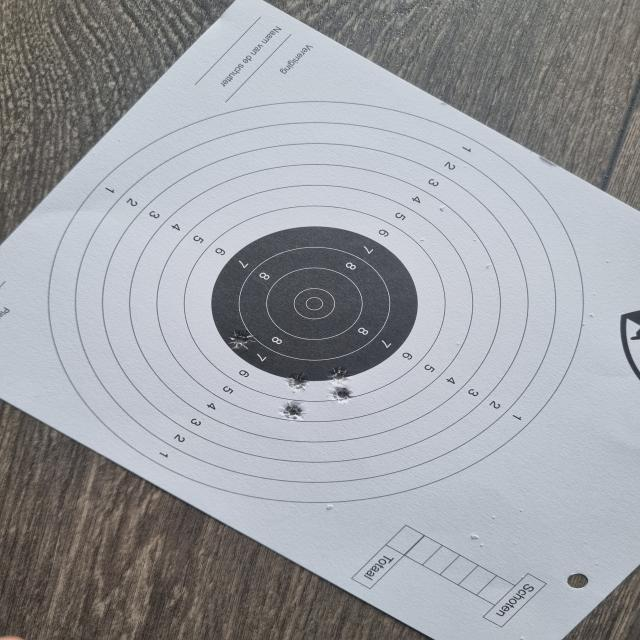5: (280, 399, 305, 421)
6: (330, 384, 352, 404)
7: (285, 370, 312, 392), (228, 331, 253, 352), (329, 365, 350, 384)
Target: (46, 95, 588, 504)
black_contour: (209, 226, 418, 380)
